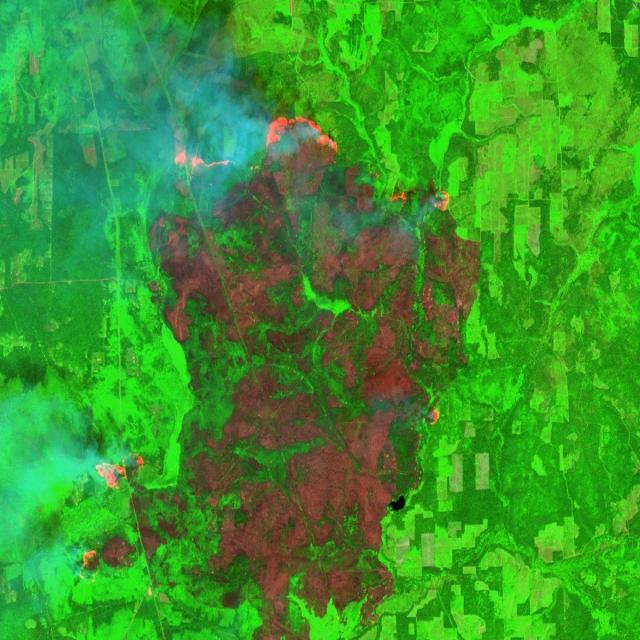fire: (166, 108, 453, 218), (80, 449, 150, 575), (420, 391, 446, 433)
